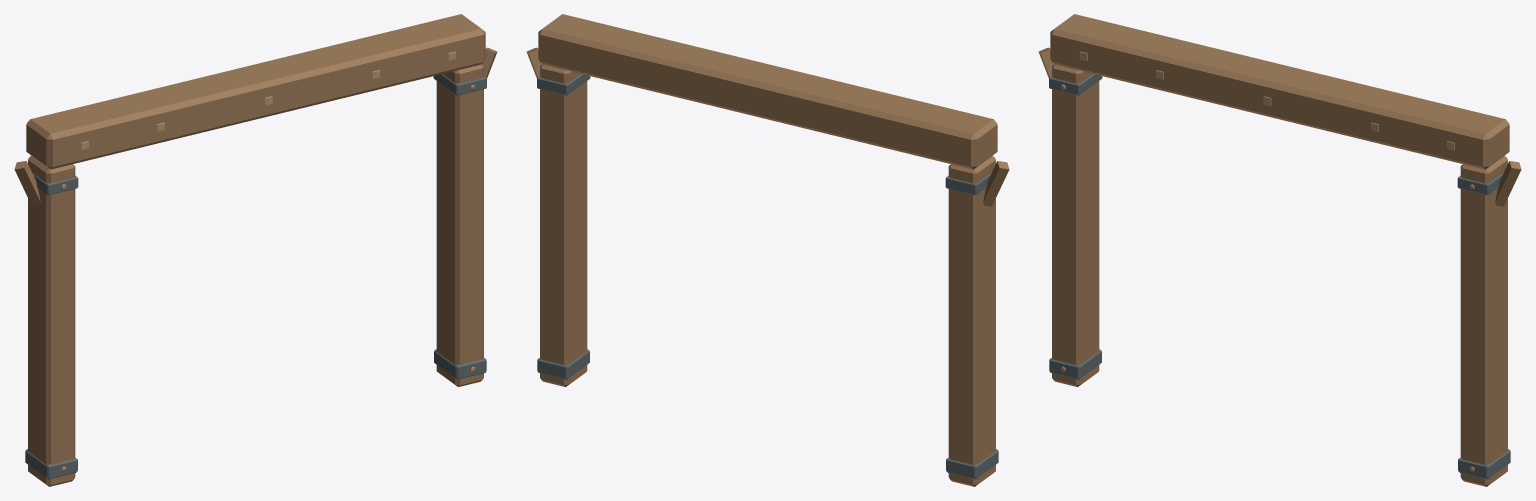
File: cave_detail_support.glb
3 views of the same model, side by side, from view 1: azimuth 30°, elevation 25°; view 2: azimuth 150°, elevation 25°; view 3: azimuth 330°, elevation 25° (orthographic).
Visible parts, largest first — view 1: Timber lintel, Hand hewn upright.001, Hand hewn upright, Iron foot shoe, Iron foot shoe.001, Outer pegged brace, Upper iron binding.001, Upper iron binding; view 2: Timber lintel, Hand hewn upright.001, Hand hewn upright, Iron foot shoe, Iron foot shoe.001, Outer pegged brace, Upper iron binding.001, Upper iron binding; view 3: Timber lintel, Hand hewn upright, Hand hewn upright.001, Iron foot shoe.001, Iron foot shoe, Outer pegged brace.001, Upper iron binding, Upper iron binding.001.
Part boxes in pixels (box(x1,y1,x2,y2)): Timber lintel: box(26, 14, 485, 169); Hand hewn upright.001: box(436, 64, 483, 386); Hand hewn upright: box(28, 155, 75, 486); Iron foot shoe: box(25, 449, 77, 479); Iron foot shoe.001: box(434, 349, 486, 379); Outer pegged brace: box(14, 161, 40, 206); Upper iron binding.001: box(433, 74, 486, 95); Upper iron binding: box(32, 173, 78, 195); Timber lintel: box(538, 14, 997, 169); Hand hewn upright.001: box(540, 64, 587, 386); Hand hewn upright: box(948, 155, 995, 486); Iron foot shoe: box(946, 449, 998, 479); Iron foot shoe.001: box(537, 349, 589, 379); Outer pegged brace: box(983, 161, 1009, 206); Upper iron binding.001: box(537, 74, 590, 95); Upper iron binding: box(945, 173, 991, 195); Timber lintel: box(1050, 14, 1509, 169); Hand hewn upright: box(1052, 64, 1099, 386); Hand hewn upright.001: box(1460, 155, 1507, 486); Iron foot shoe.001: box(1458, 449, 1510, 479); Iron foot shoe: box(1049, 349, 1101, 379); Outer pegged brace.001: box(1495, 161, 1521, 206); Upper iron binding: box(1049, 74, 1102, 95); Upper iron binding.001: box(1457, 173, 1503, 195).
Bounding box in the file's own units: 7.63 × 5.34 × 0.6925.
